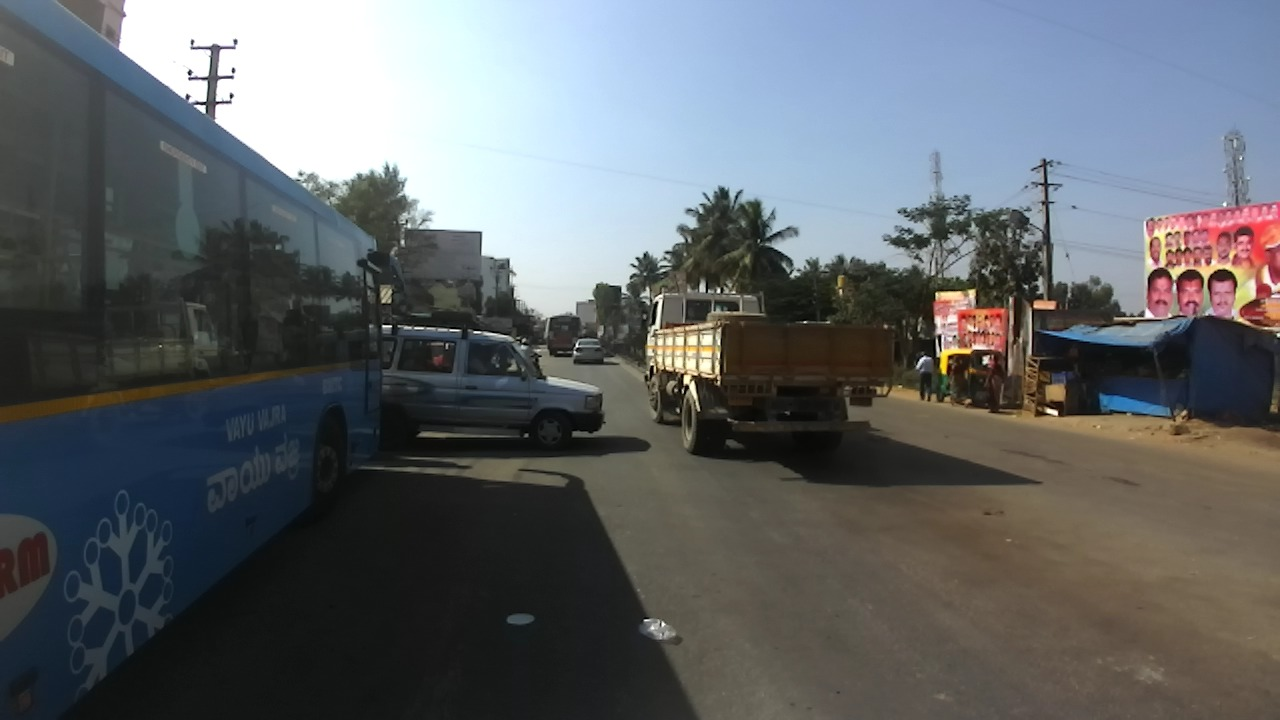autorickshaw: (936, 349, 1006, 406)
bus: (1, 1, 406, 720), (545, 314, 584, 358)
car: (382, 311, 607, 449), (573, 337, 605, 366)
motorcycle: (524, 354, 544, 379)
person: (983, 355, 1005, 414), (916, 351, 934, 403), (948, 356, 967, 405)
rider: (515, 336, 538, 370)
truck: (644, 288, 895, 460)
vehicle fallback: (529, 325, 545, 344), (578, 328, 598, 338)
